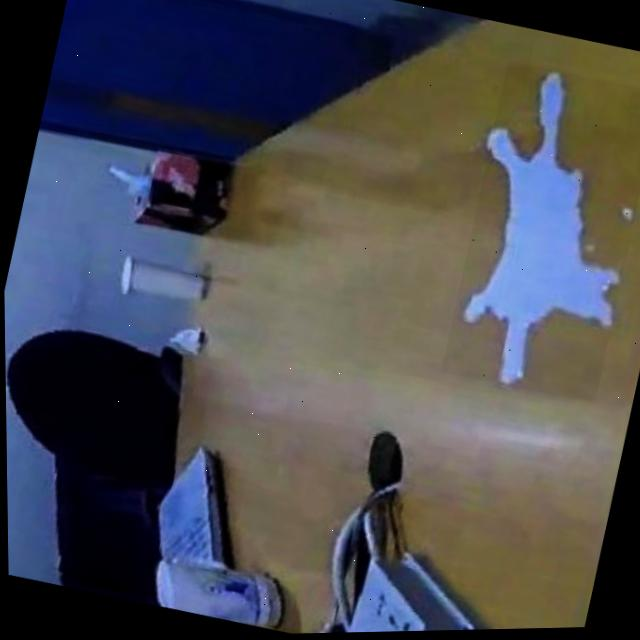spillage: (462, 73, 616, 388)
